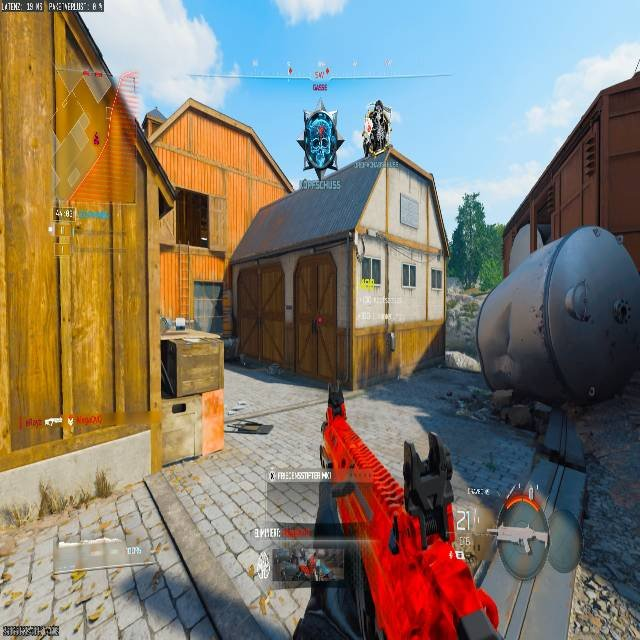head: (372, 98, 384, 110)
player: (299, 105, 340, 176), (361, 98, 394, 160)
